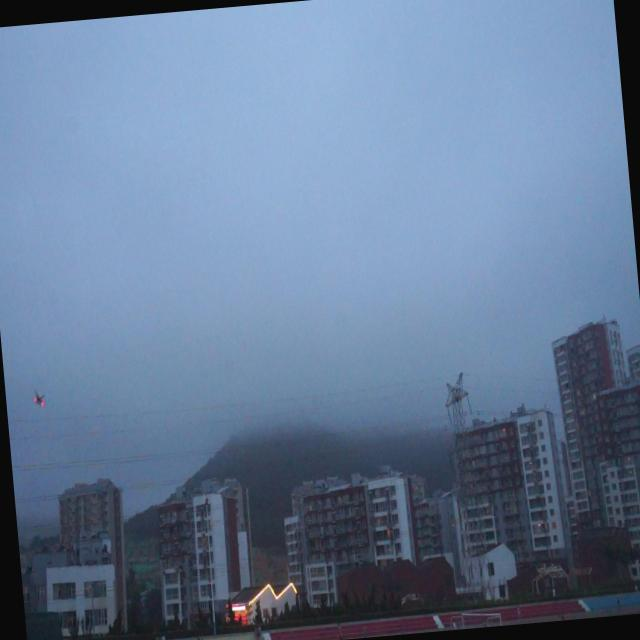drone: (30, 385, 48, 411)
